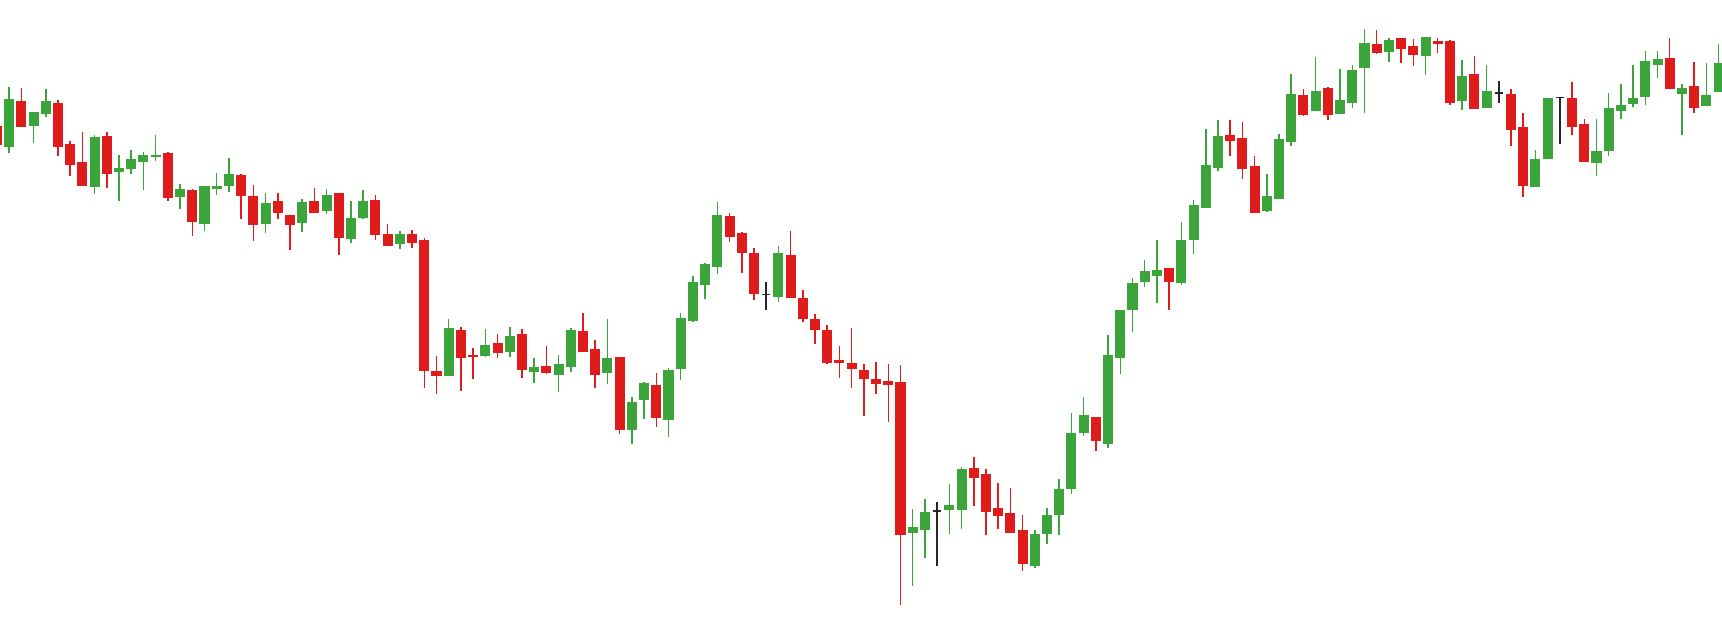buy: (930, 497, 1044, 576)
